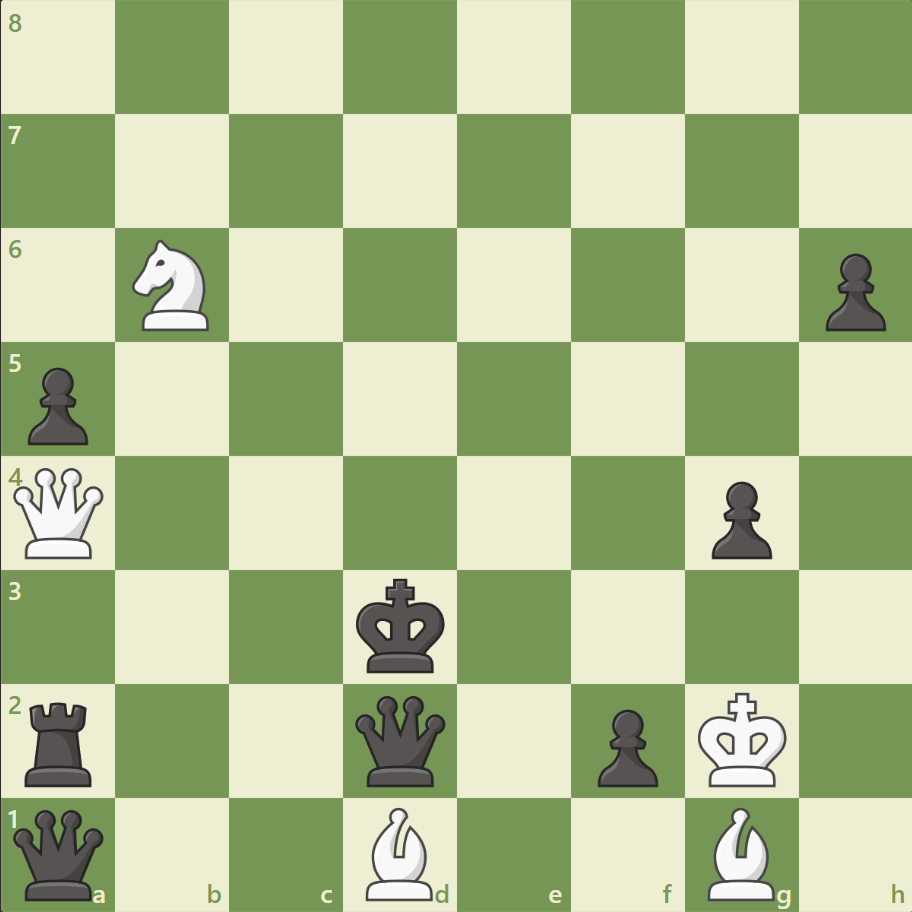B: (358, 801, 442, 904), (698, 801, 782, 904)
K: (692, 685, 792, 793)
N: (124, 234, 222, 337)
Q: (10, 463, 109, 562)
k: (351, 571, 451, 679)
p: (20, 359, 95, 450), (701, 473, 776, 564), (815, 246, 889, 337), (588, 700, 662, 791)
q: (351, 690, 450, 789), (10, 804, 109, 903)
r: (19, 693, 102, 790)
